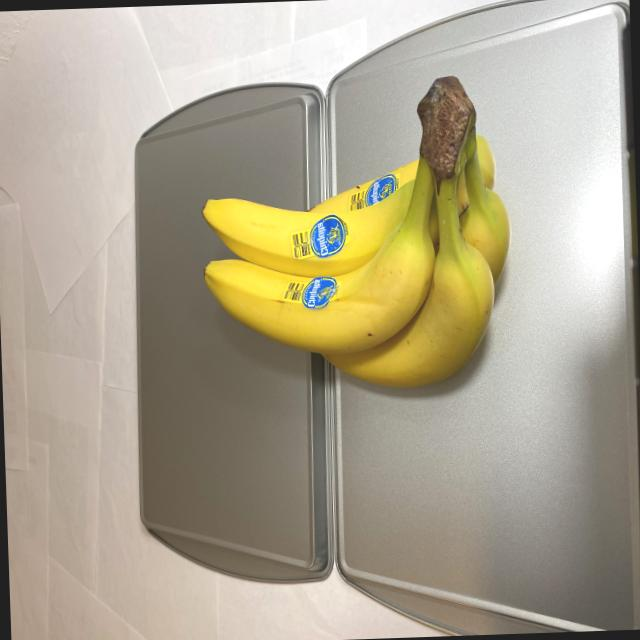banana: (193, 63, 519, 410)
